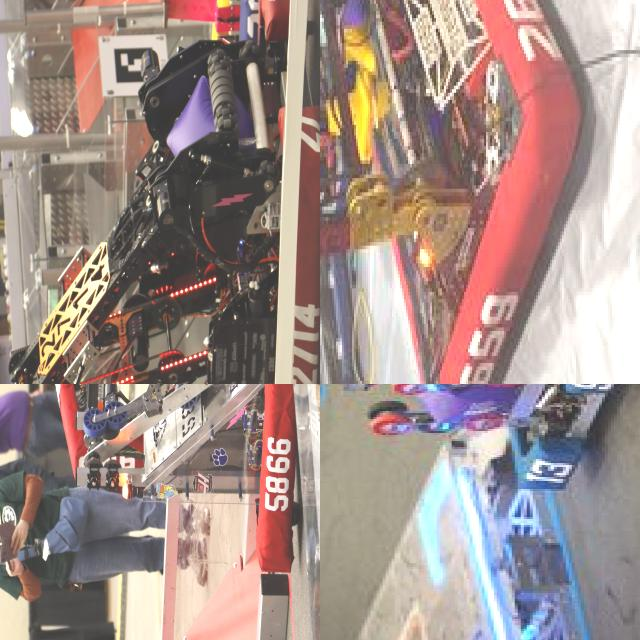FRC-Robots: (0, 1, 320, 384), (320, 0, 597, 384), (35, 384, 300, 612), (320, 384, 640, 485)
